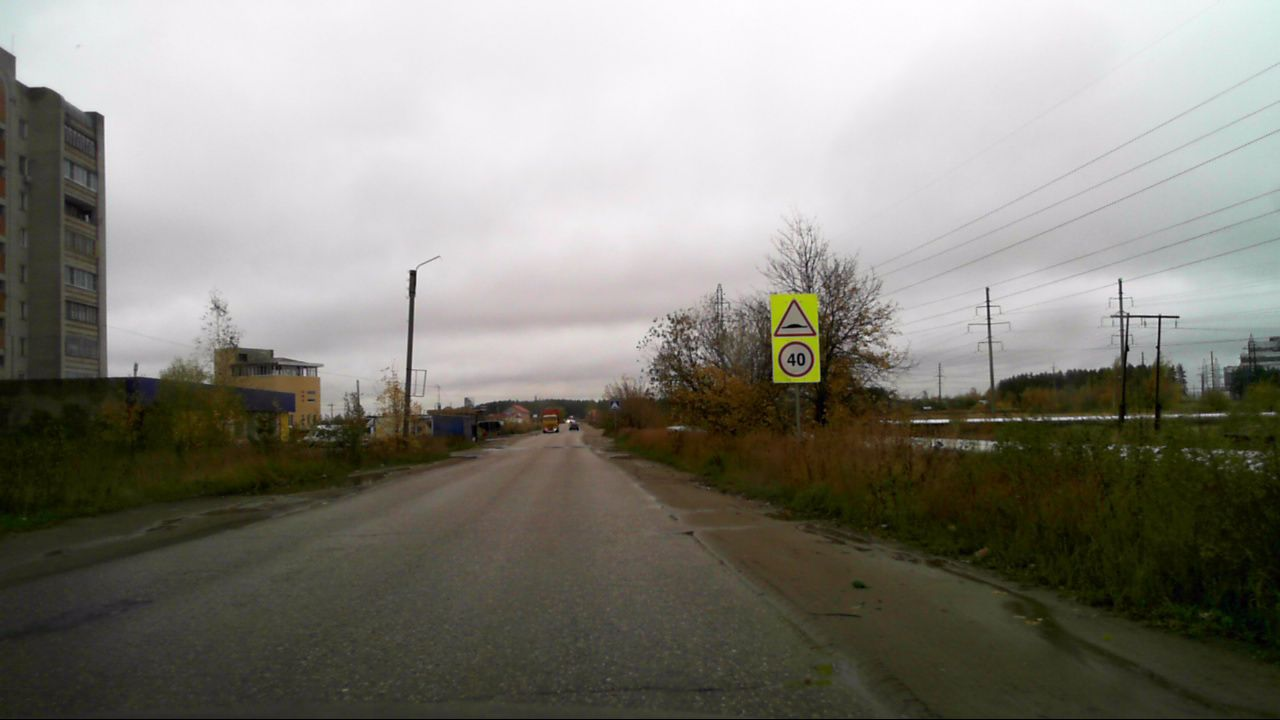speed_warning_40: (778, 341, 813, 376)
